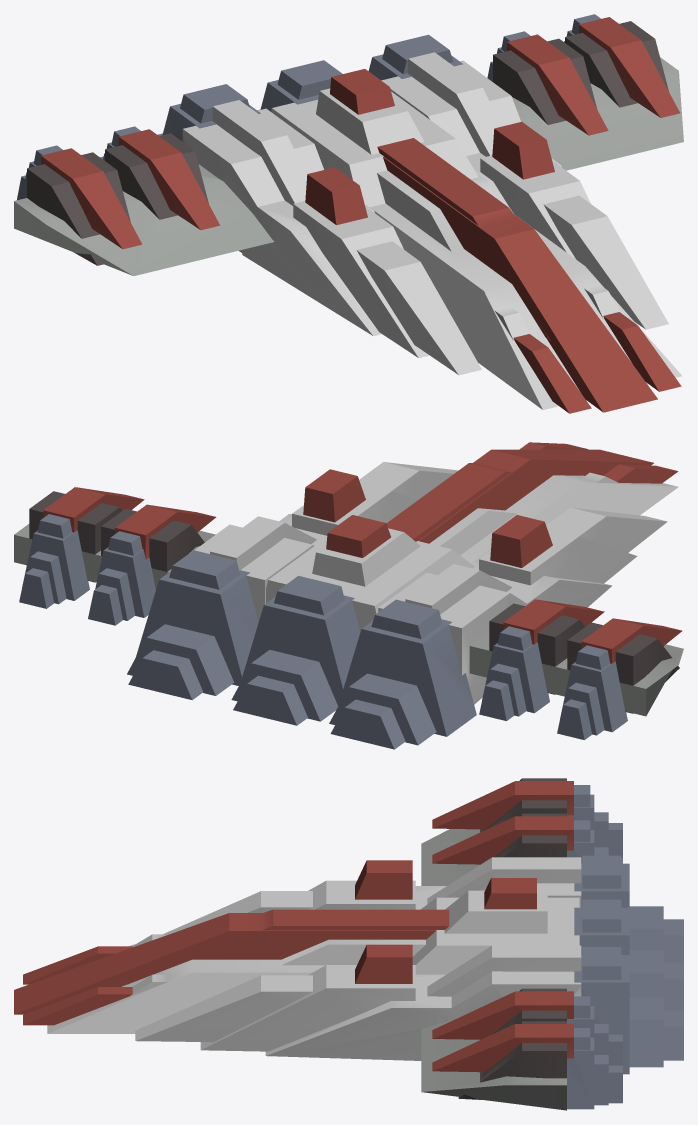
The model's file is Ship_Power.fbx.
3 views of the same model, one above another, from view 1: azimuth 30°, elevation 25°; view 2: azimuth 150°, elevation 25°; view 3: azimuth 270°, elevation 25° (orthographic). The views are drawn at different scales.
Visible parts, largest first — view 1: pCube265; view 2: pCube265; view 3: pCube265.
Part boxes in pixels (bbox=[...]): pCube265: bbox=[14, 14, 683, 413]; pCube265: bbox=[14, 442, 683, 749]; pCube265: bbox=[14, 778, 683, 1110].
Bounding box in the file's own units: 7.57 × 1.45 × 7.51.
